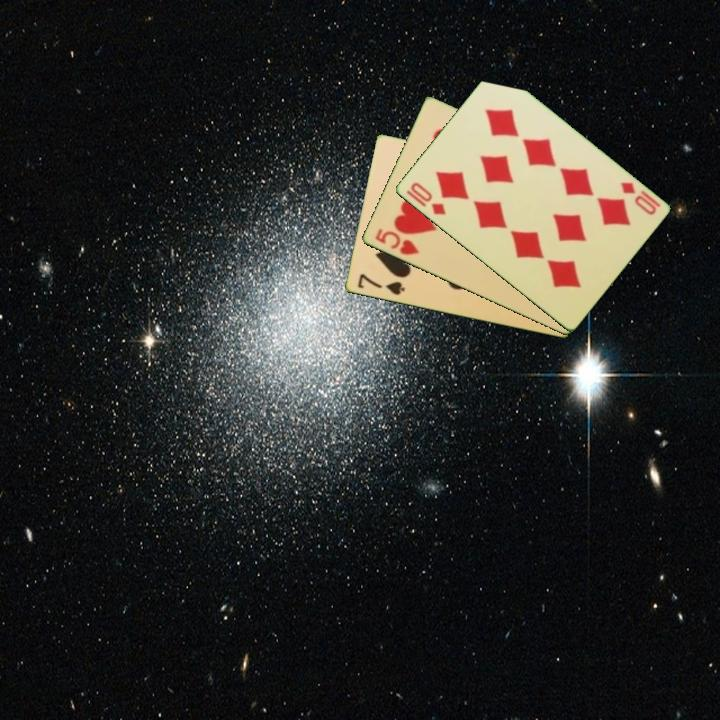10d: (616, 178, 659, 218), (406, 178, 448, 218)
5h: (371, 225, 422, 258)
7s: (354, 270, 407, 298)
